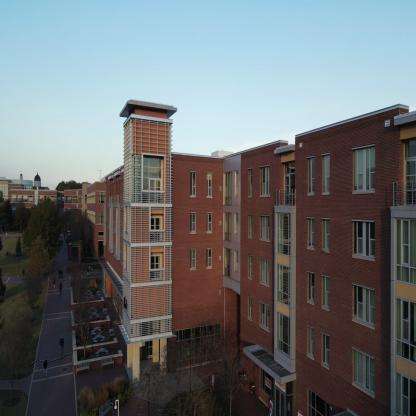Wolf Ridge: (106, 87, 415, 415)
